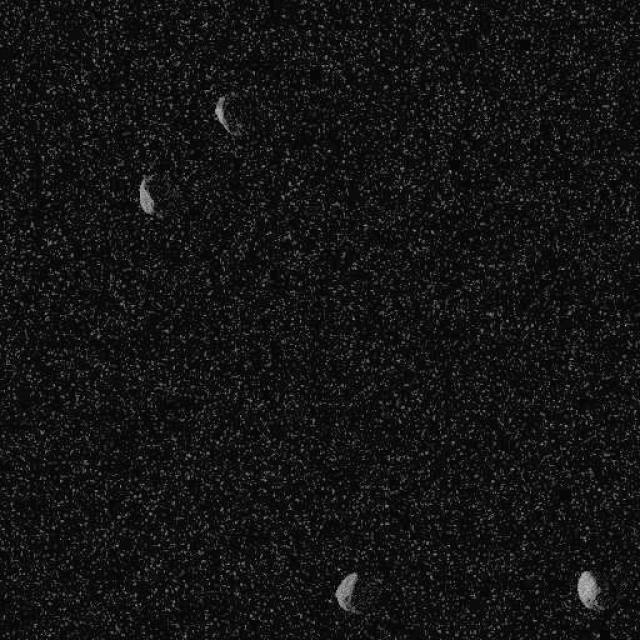D2: (212, 91, 252, 138), (575, 569, 601, 610), (334, 570, 358, 614), (137, 174, 155, 216)
